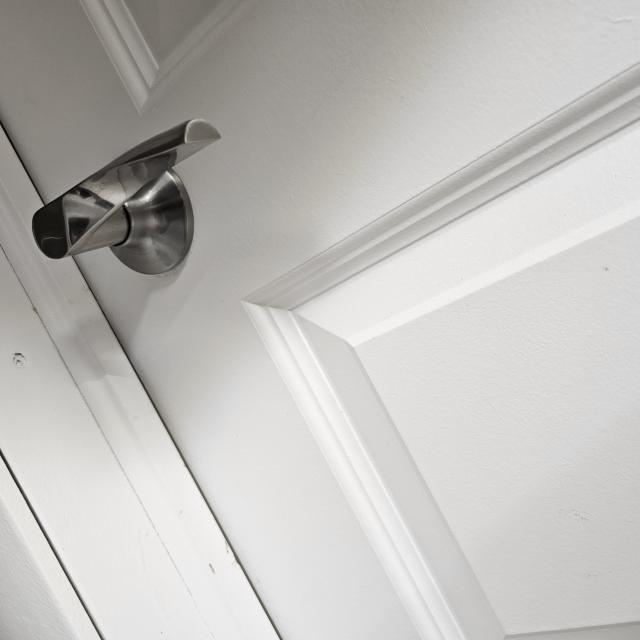door-handle: (32, 120, 220, 274)
